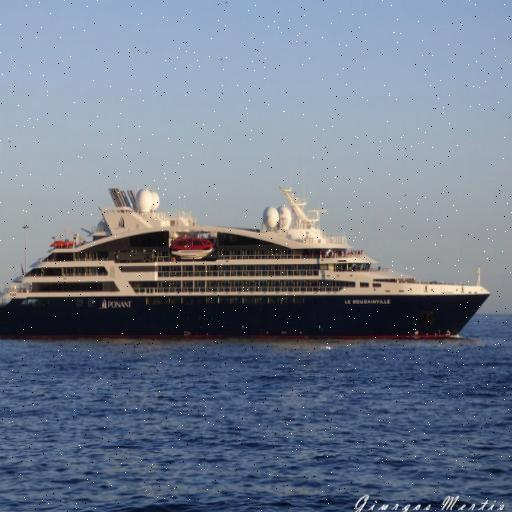cruises: (1, 177, 496, 354)
